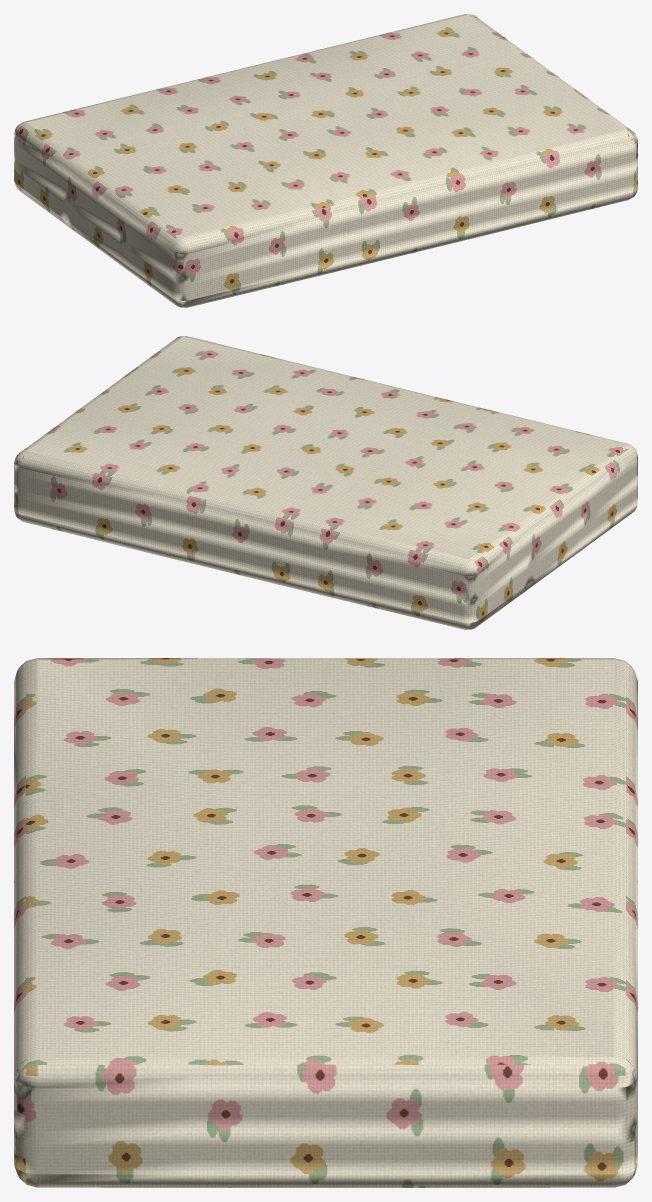
Rendered from Goi_BoMe_Bo.glb.
3 views of the same model, one above another, from view 1: azimuth 30°, elevation 25°; view 2: azimuth 150°, elevation 25°; view 3: azimuth 270°, elevation 25° (orthographic). The views are drawn at different scales.
Visible parts, largest first — view 1: geometry_0; view 2: geometry_0; view 3: geometry_0.
Boxes of the visible parts, x1,y1,x2,y2 form: geometry_0: (14,14,637,307); geometry_0: (14,336,637,629); geometry_0: (14,658,637,1187).
Bounding box in the file's own units: 0.49 × 0.0838 × 0.31.
Materials: 1 (1 with a texture image).
